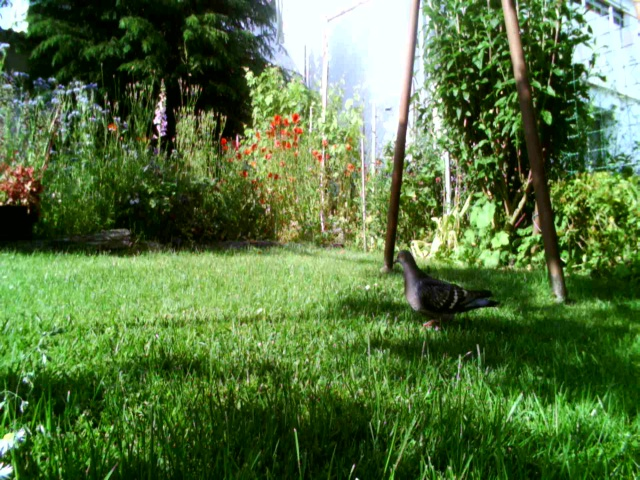Pigeon: (387, 246, 503, 340)
